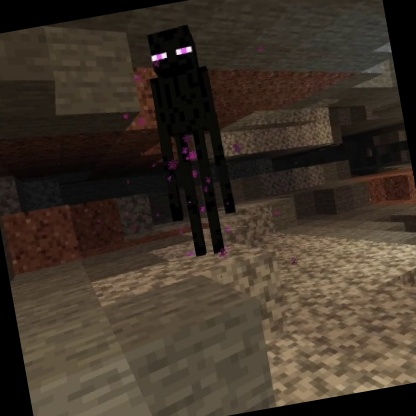enderman: (135, 17, 249, 265)
